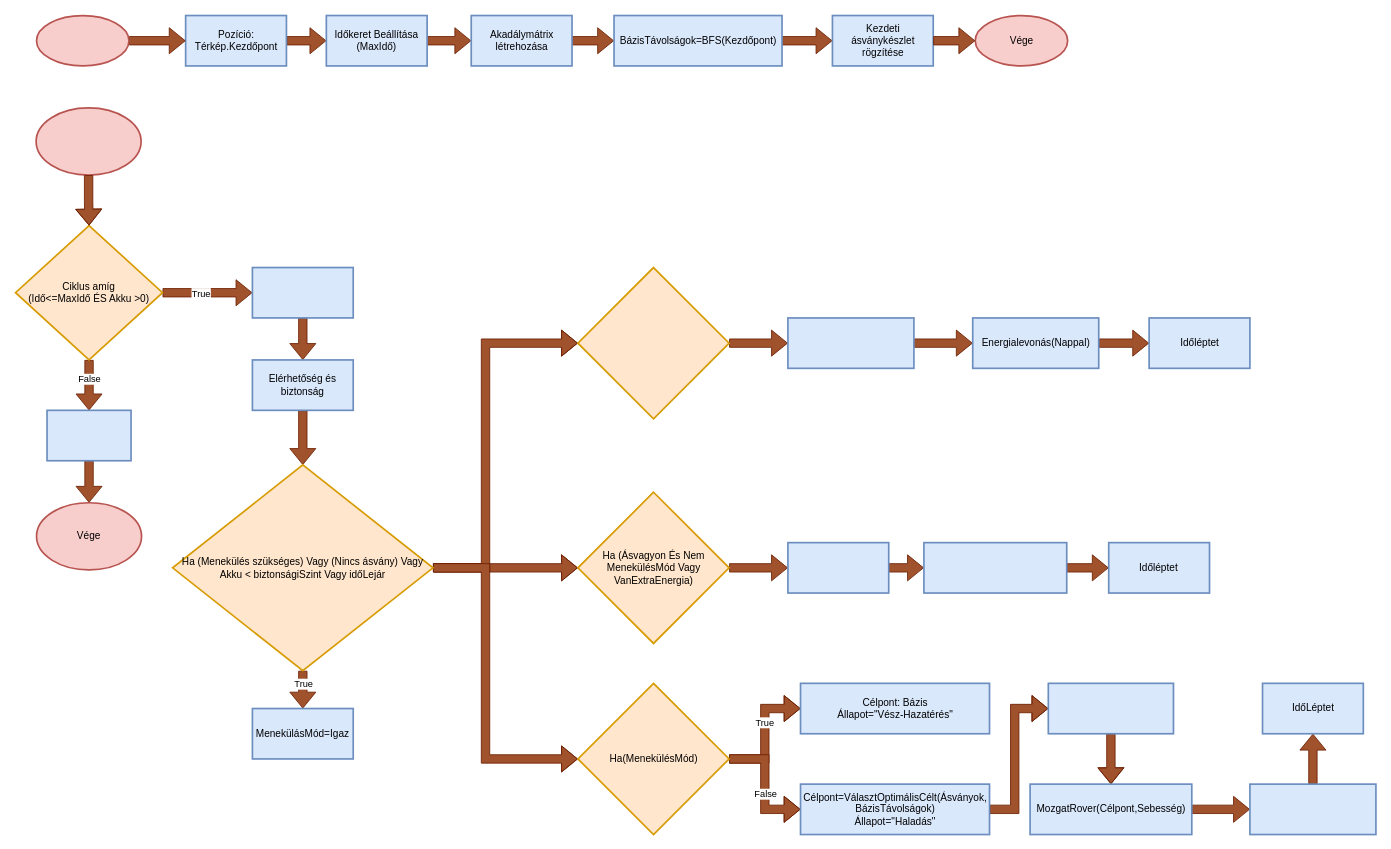
Image size: 1391x849. Some labels were removed from this diagram. The shapes that lost their labels are listed below. From the top down, each one's centre as x and y in pixels, then its label:
[82,40]: RoverInicializálása
[88,141]: SzimulációFutattása
[302,292]: Környezet felmérése
[653,342]: HA (Bázios ÉS MenekülésMód ÉS Akku < Szükséges)
[850,343]: Állapot="Töltés" EnergiaGyűjtés(Nappal)
[88,435]: StatisztikaKiírása
[838,567]: Állapot="Bányászat" ÁsványKiGyűjtése
[995,567]: EnergiaLevonás(Bányászat)
[1110,708]: HatározzMegSebességet
[1312,809]: EnergiaLevonás(Mozgás)
